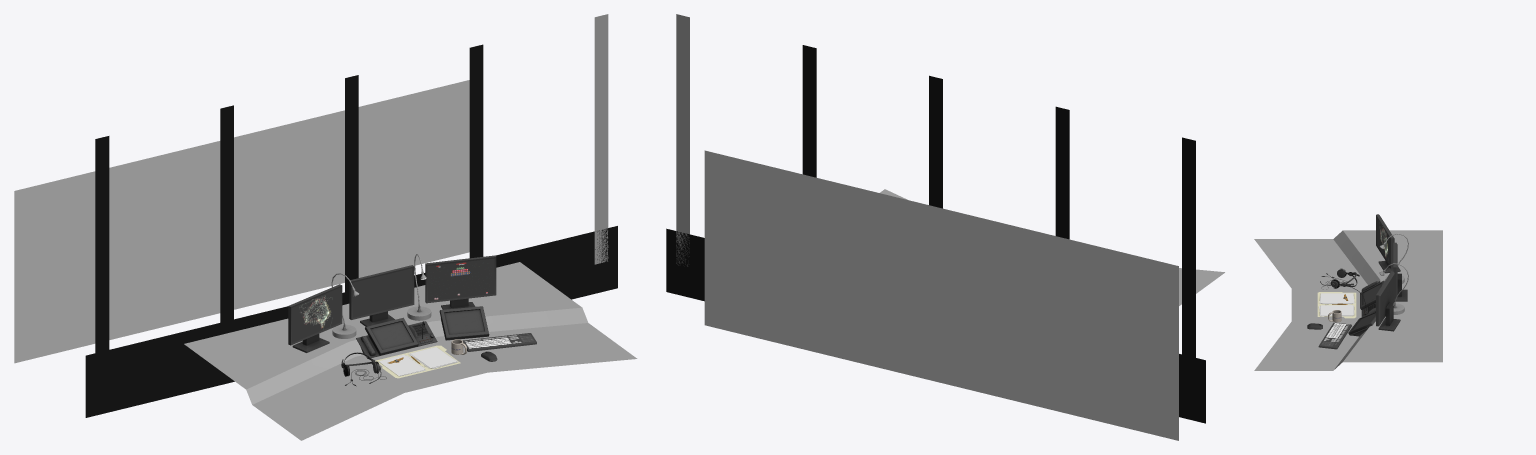
Rendered from menu scene.fbx.
3 views of the same model, side by side, from view 1: azimuth 30°, elevation 25°; view 2: azimuth 150°, elevation 25°; view 3: azimuth 270°, elevation 25° (orthographic). The views are drawn at different scales.
Parts seen in each view (by area): view 1: backgroud_image, table_top, table_top1, screen (×5), pPlane24, pPlane23, pPlane22, pPlane21, pPlane20, paper, keyboard; view 2: backgroud_image, table_top1, pPlane24, pPlane23, pPlane21, pPlane22, pPlane20, table_top; view 3: table_top, screen (×4), paper, keyboard, stand, manila_folder.
Boxes of the visible parts, box(x1,y1,x2,y2) form: backgroud_image: box(14, 80, 469, 363); table_top: box(184, 262, 637, 440); table_top1: box(85, 226, 617, 417); screen (×5): box(288, 255, 496, 355); pPlane24: box(594, 14, 608, 264); pPlane23: box(95, 136, 109, 382); pPlane22: box(469, 44, 483, 258); pPlane21: box(220, 105, 233, 333); pPlane20: box(345, 75, 358, 304); paper: box(379, 347, 457, 376); keyboard: box(463, 333, 536, 351); backgroud_image: box(704, 150, 1178, 440); table_top1: box(666, 228, 1205, 423); pPlane24: box(676, 14, 689, 266); pPlane23: box(1182, 137, 1195, 357); pPlane21: box(1055, 106, 1069, 239); pPlane22: box(802, 45, 816, 177); pPlane20: box(929, 75, 942, 208); table_top: box(880, 189, 1224, 305); table_top: box(1254, 230, 1442, 370); screen (×4): box(1348, 214, 1394, 334); paper: box(1319, 293, 1354, 316); keyboard: box(1318, 322, 1351, 349); stand: box(1378, 302, 1400, 331); manila_folder: box(1317, 292, 1356, 318).
Size of the model in its own units: 5335 by 2542 by 2777.
